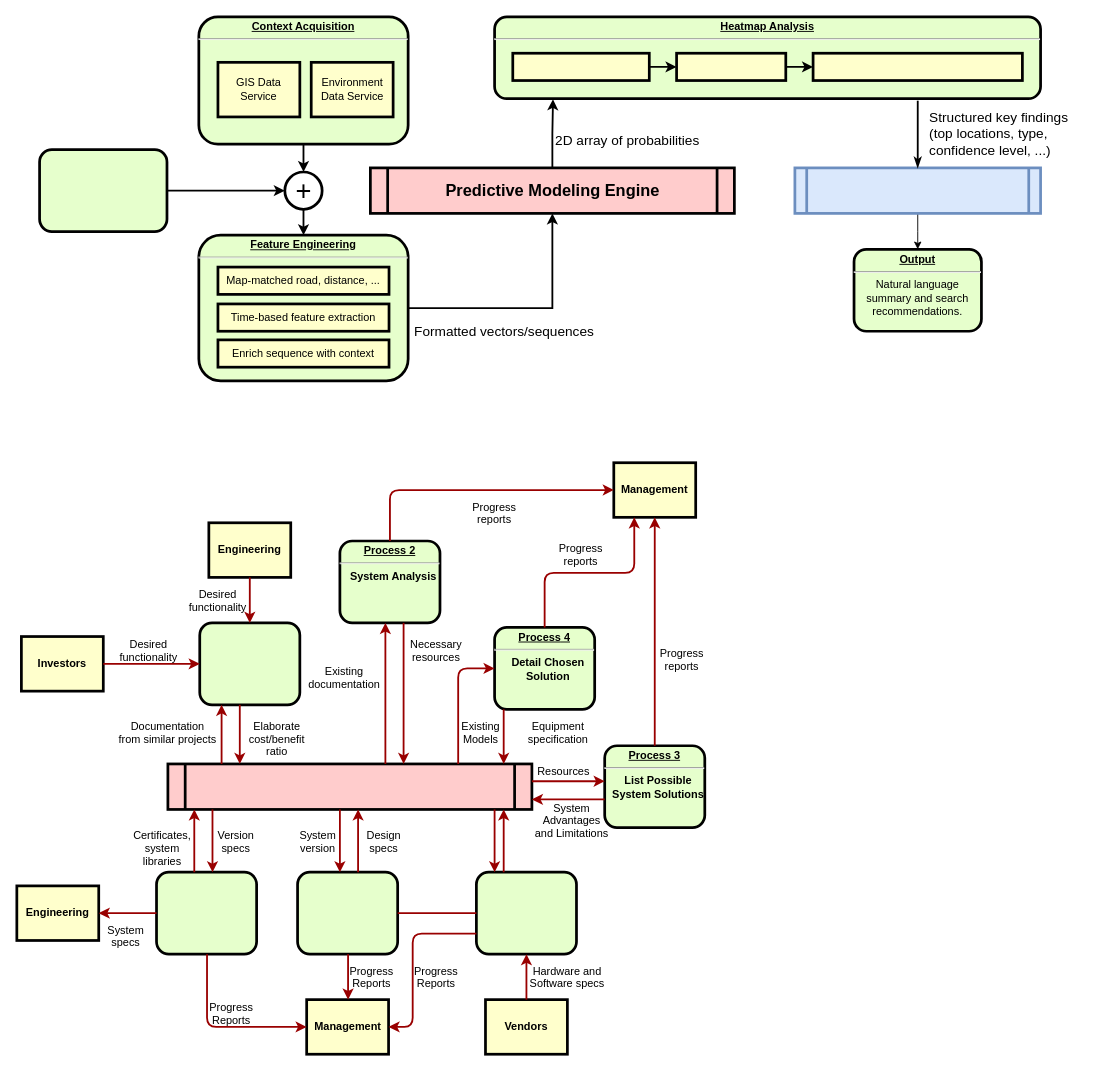
Some shapes in this 1116 by 1071 pixel diagram are drawn without their labels. Each missing label, with the centre of its shape:
Coordinates/Areas: the point at 731,66
Data Integration Location data feed from tracking device/app: the point at 103,190
Generative AI Summarization: the point at 917,190
Highest Probabilities cell: the point at 580,66
ON-DEMAND SYSTEM DEVELOPMENT: the point at 349,786
Process 1 System Study Preparation: the point at 249,663
Process 5 New System Design: the point at 526,912
Process 6 New System Construction: the point at 206,912
Process 7 New System Startup and Testing: the point at 347,912
Significant features (Park, Mall, School): the point at 917,66
